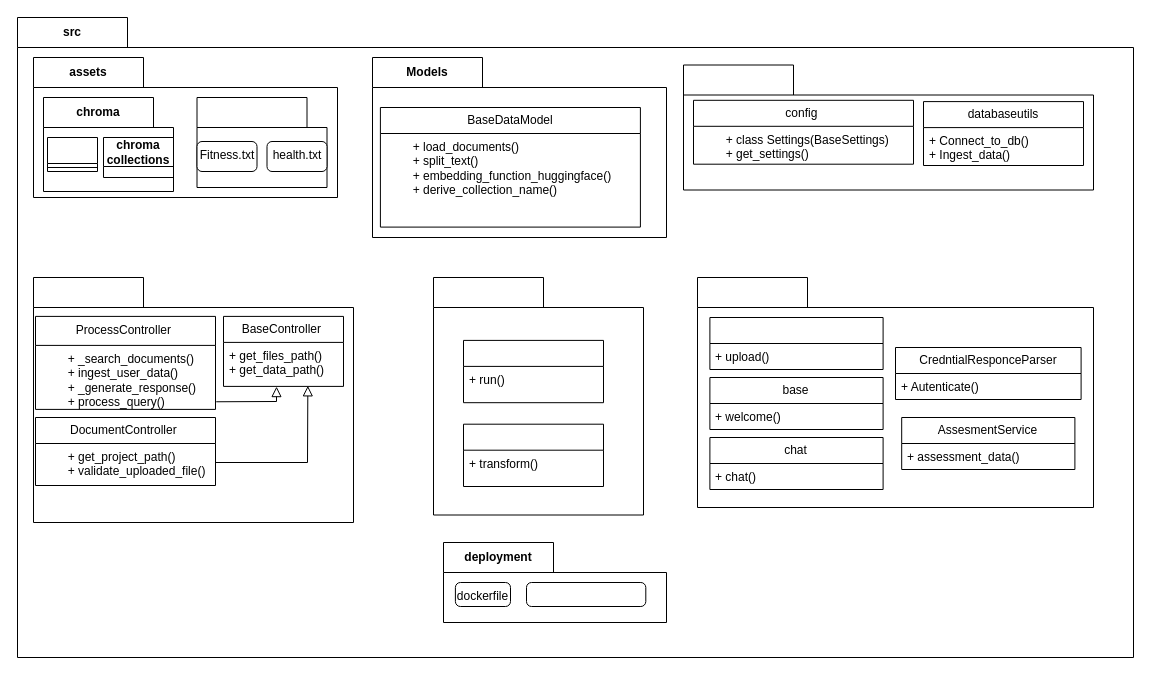
Some shapes in this 1151 by 675 pixel diagram are drawn without their labels. Each missing label, with the box of its shape:
Controllers: (32, 276, 354, 522)
data: (709, 316, 883, 370)
docker-compose.yml: (526, 582, 646, 606)
files: (196, 96, 327, 188)
mesop_chat_view(): (462, 423, 604, 486)
routes: (696, 276, 1094, 508)
sqlite3: (46, 136, 98, 172)
streamlitchatview(): (462, 339, 604, 403)
uitls: (682, 64, 1094, 190)
views: (432, 276, 644, 515)
